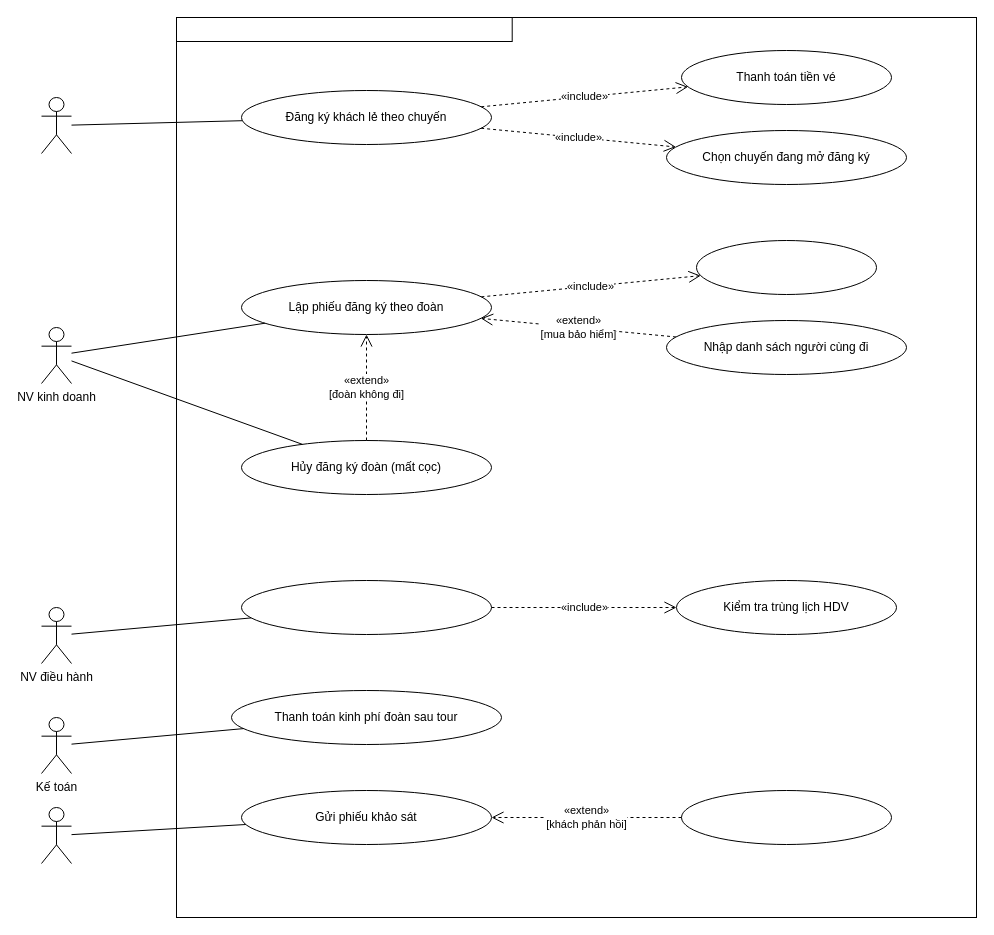
Some shapes in this 994 by 935 pixel diagram are drawn without their labels. The box of each missing label's shape, as (x1, y1, x2, y2) in pixels:
Ghi nhận góp ý: (680, 790, 892, 844)
NV bán vé: (40, 96, 72, 154)
NV chăm sóc khách hàng: (40, 806, 72, 864)
Phân công hướng dẫn viên: (240, 580, 492, 634)
Quy trình: từ đăng ký tour đến kết thúc tour: (176, 16, 512, 42)
Đặt cọc: (696, 240, 876, 294)
